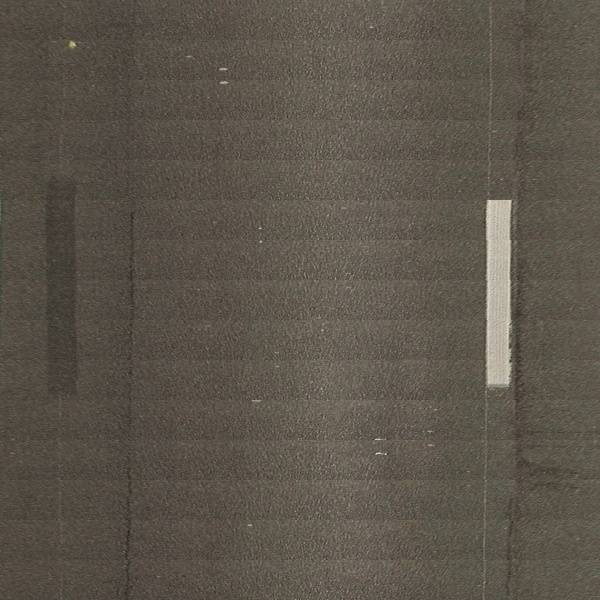road_damage: (511, 453, 584, 495), (512, 256, 528, 408)
